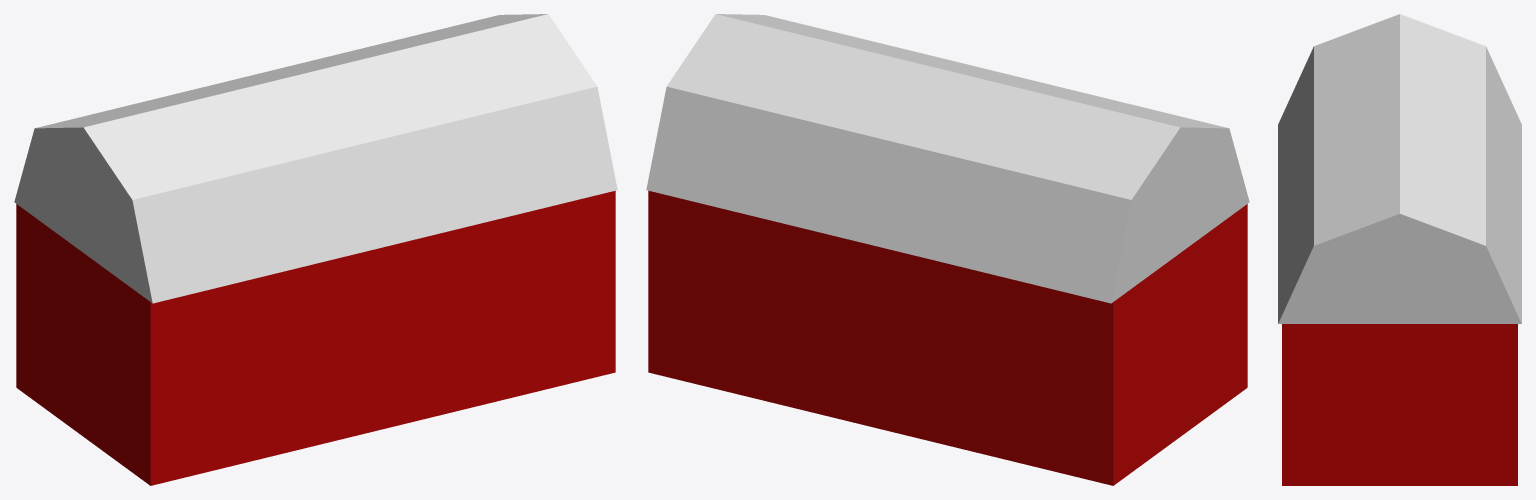
The model's file is Barn.fbx.
3 views of the same model, side by side, from view 1: azimuth 30°, elevation 25°; view 2: azimuth 150°, elevation 25°; view 3: azimuth 270°, elevation 25° (orthographic). The views are drawn at different scales.
Parts seen in each view (by area): view 1: Barn; view 2: Barn; view 3: Barn.
Boxes of the visible parts, box(x1,y1,x2,y2) form: Barn: box(14, 14, 617, 485); Barn: box(646, 14, 1249, 485); Barn: box(1278, 14, 1521, 485).
Bounding box in the file's own units: 20 × 12.72 × 10.31.
